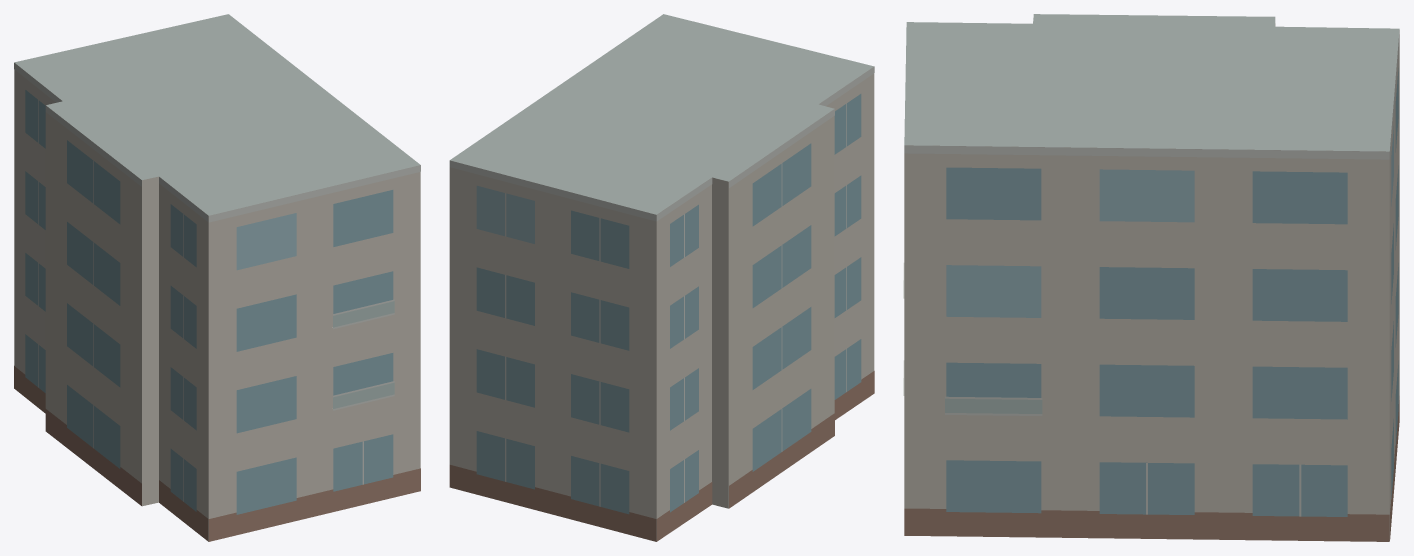
The model's file is survey-upis-32757551.glb.
3 renders of one model, left to right at view 1: azimuth 30°, elevation 25°; view 2: azimuth 150°, elevation 25°; view 3: azimuth 270°, elevation 25°, orthographic. The views are drawn at different scales.
Parts seen in each view (by area): view 1: survey-upis-32757551.tmp; view 2: survey-upis-32757551.tmp; view 3: survey-upis-32757551.tmp.
Part boxes in pixels (left/top/right/bottom): survey-upis-32757551.tmp: left=14, top=14, right=420, bottom=541; survey-upis-32757551.tmp: left=449, top=14, right=874, bottom=541; survey-upis-32757551.tmp: left=903, top=14, right=1399, bottom=541.
Bounding box in the file's own units: 8.88 × 11.75 × 13.55.
